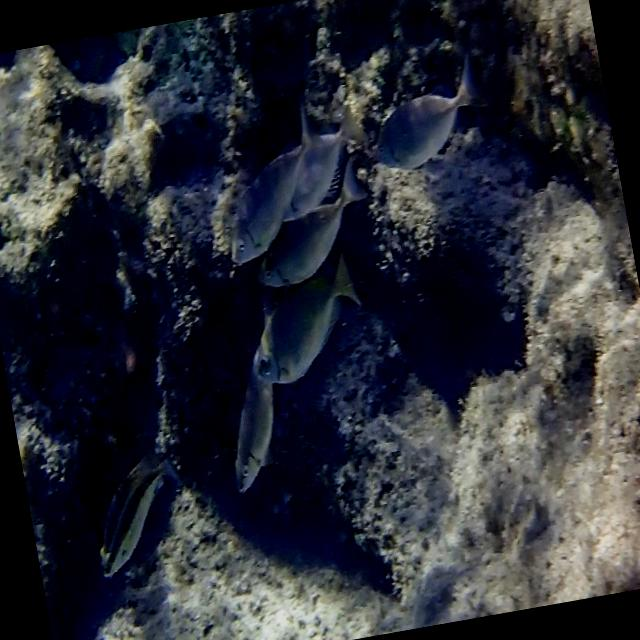Sokar Baligi: (188, 80, 346, 281), (350, 35, 500, 207)
